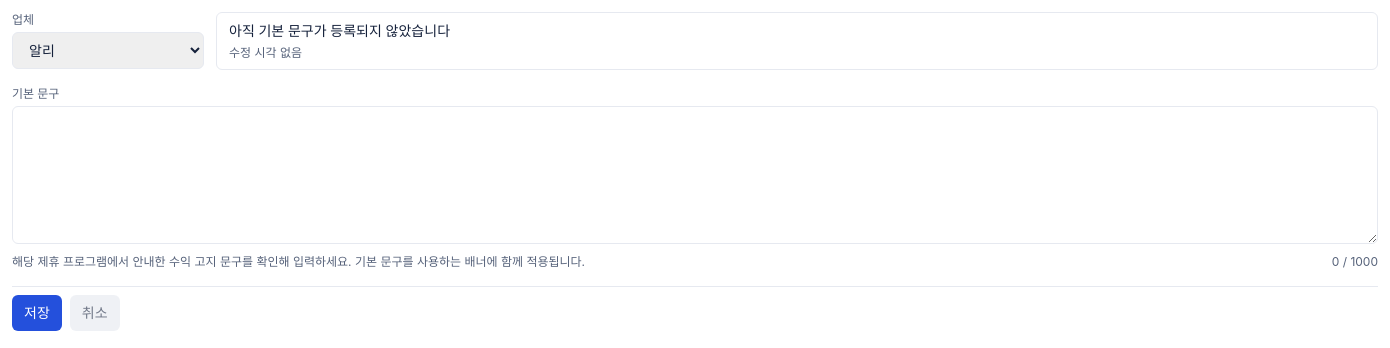
Test: AdminAffiliateDisclosureSettings › shows unregistered provider state separately from saved timestamps
Expected: the text with test id "provider-disclosure-status" reads "아직 기본 문구가 등록되지 않았습니다", [229, 22, 450, 39]
Expected: the text with test id "provider-disclosure-updated" reads "수정 시각 없음", [229, 45, 302, 60]
Select "쿠팡" in the dropdown with test id "provider-disclosure-provider" at (108, 50), box [12, 32, 204, 69]
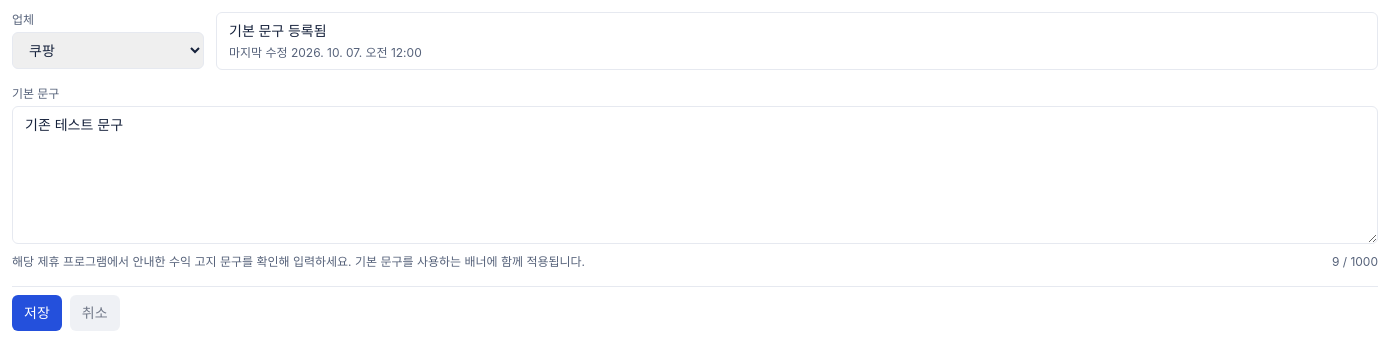
Expected: the text with test id "provider-disclosure-status" reads "기본 문구 등록됨", [229, 22, 327, 39]
Expected: the text with test id "provider-disclosure-updated" shows "2026", [229, 45, 422, 60]
